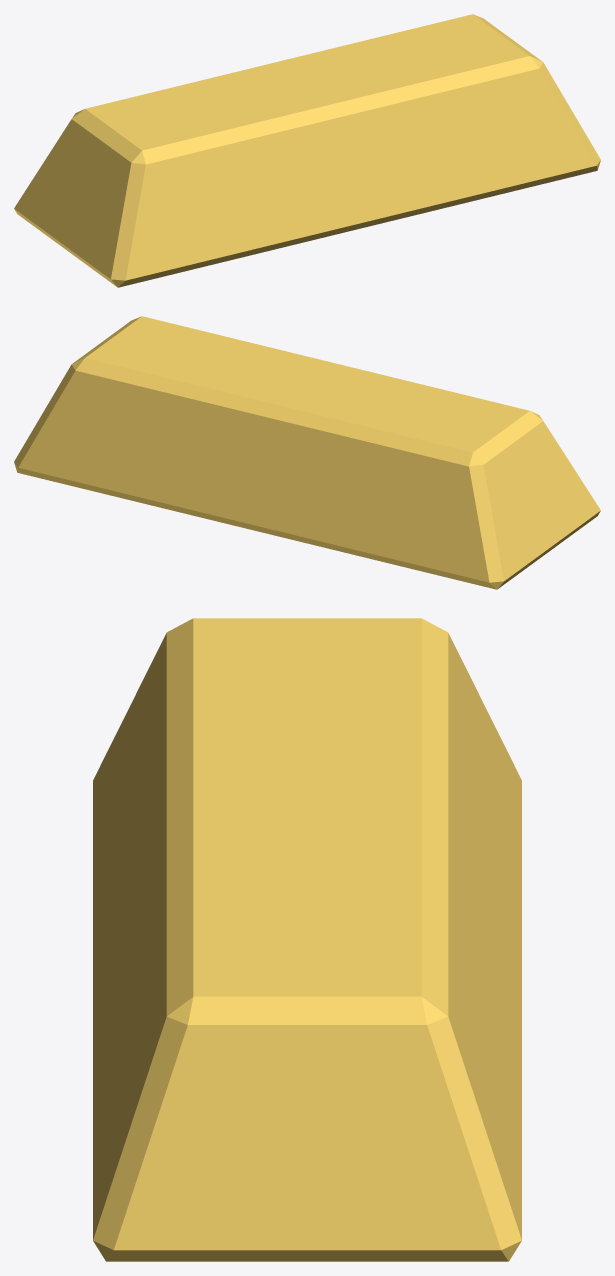
Rendered from ouro4.obj.
3 renders of one model, top to bottom at view 1: azimuth 30°, elevation 25°; view 2: azimuth 150°, elevation 25°; view 3: azimuth 270°, elevation 25°, orthographic. The views are drawn at different scales.
Visible parts, largest first — view 1: Cube_Cube.003; view 2: Cube_Cube.003; view 3: Cube_Cube.003.
Boxes of the visible parts, x1,y1,x2,y2 form: Cube_Cube.003: [14, 14, 600, 287]; Cube_Cube.003: [14, 316, 600, 589]; Cube_Cube.003: [93, 618, 521, 1261].
Size of the model in its own units: 1.53 by 0.3292 by 0.5816.
1 material, 1 textured.
